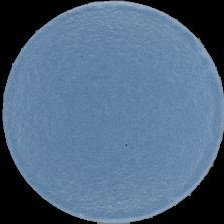16729-090: (0, 0, 224, 224)
